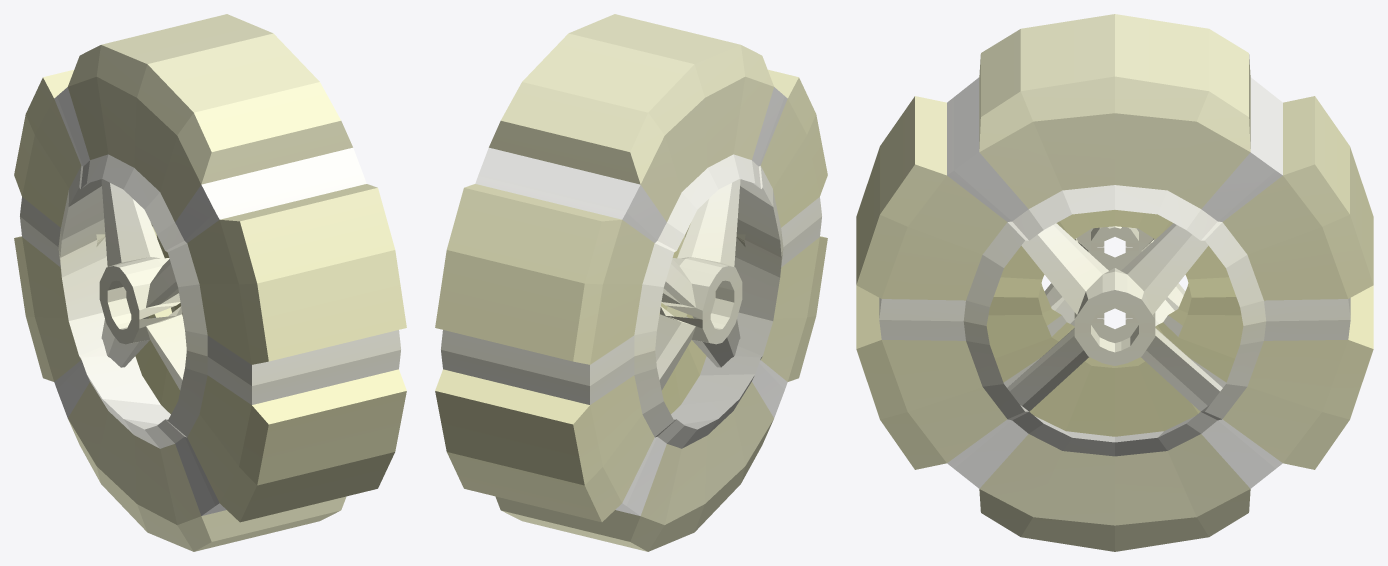
File: pb_wheel.fbx
3 views of the same model, side by side, from view 1: azimuth 30°, elevation 25°; view 2: azimuth 150°, elevation 25°; view 3: azimuth 270°, elevation 25° (orthographic).
Visible parts, largest first — view 1: Cube; view 2: Cube; view 3: Cube.
Boxes of the visible parts, left/top/right/bottom form: Cube: left=14, top=14, right=406, bottom=551; Cube: left=435, top=14, right=827, bottom=551; Cube: left=856, top=14, right=1373, bottom=551.
Bounding box in the file's own units: 24.33 × 59.88 × 59.03.
